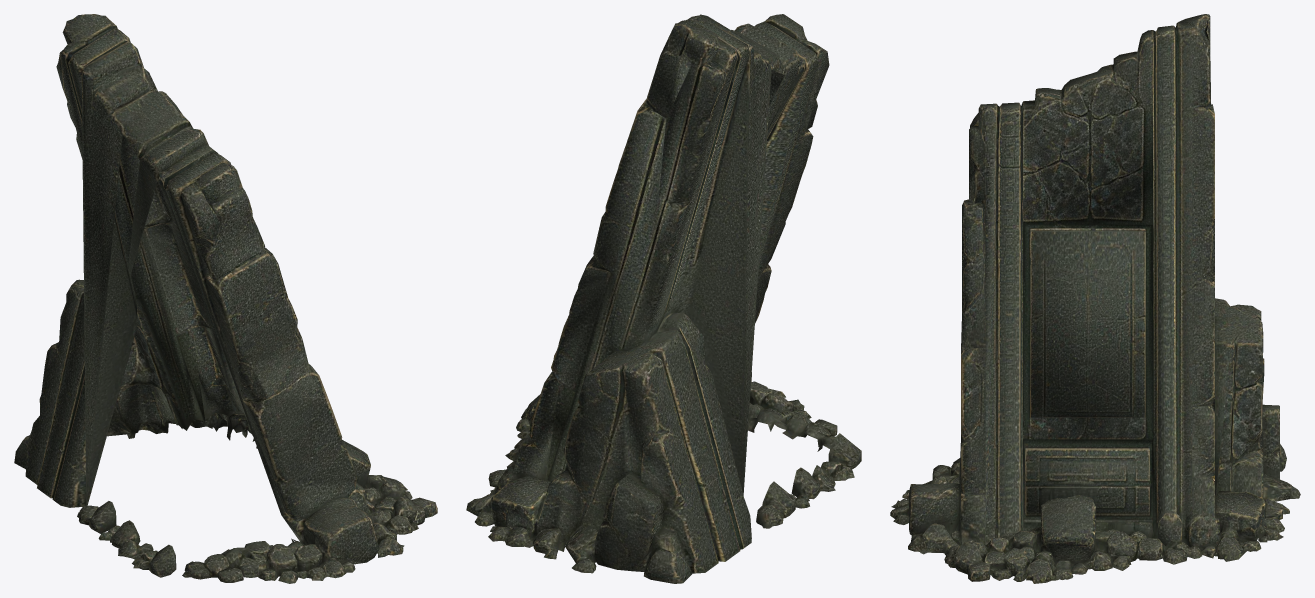
The model's file is carved-ruin.glb.
3 views of the same model, side by side, from view 1: azimuth 30°, elevation 25°; view 2: azimuth 150°, elevation 25°; view 3: azimuth 270°, elevation 25° (orthographic). The views are drawn at different scales.
Parts seen in each view (by area): view 1: tripo_node_33d2ddc6-6740-414d-98e7-218d7bdc5b6d; view 2: tripo_node_33d2ddc6-6740-414d-98e7-218d7bdc5b6d; view 3: tripo_node_33d2ddc6-6740-414d-98e7-218d7bdc5b6d.
Part boxes in pixels (x1,y1,x2,y2): tripo_node_33d2ddc6-6740-414d-98e7-218d7bdc5b6d: [14, 14, 437, 583]; tripo_node_33d2ddc6-6740-414d-98e7-218d7bdc5b6d: [466, 14, 861, 583]; tripo_node_33d2ddc6-6740-414d-98e7-218d7bdc5b6d: [890, 14, 1300, 583].
Bounding box in the file's own units: 0.6387 × 0.998 × 0.8145.
1 material, 1 textured.
